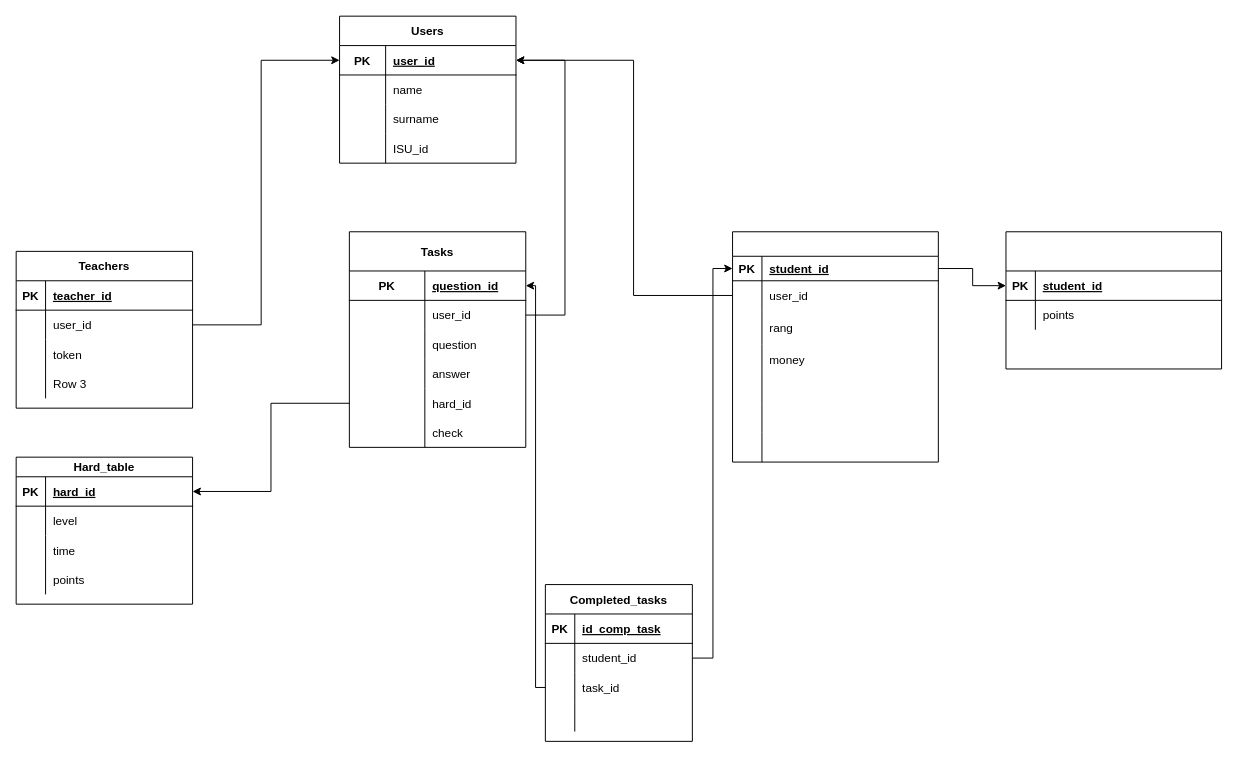
Some shapes in this 1238 by 758 pixel diagram are drawn without their labels. Here are the shapes that lost their labels. From the top down, the box of each, then its label:
(1005, 231, 1222, 369): Current season
(732, 231, 938, 462): Students
